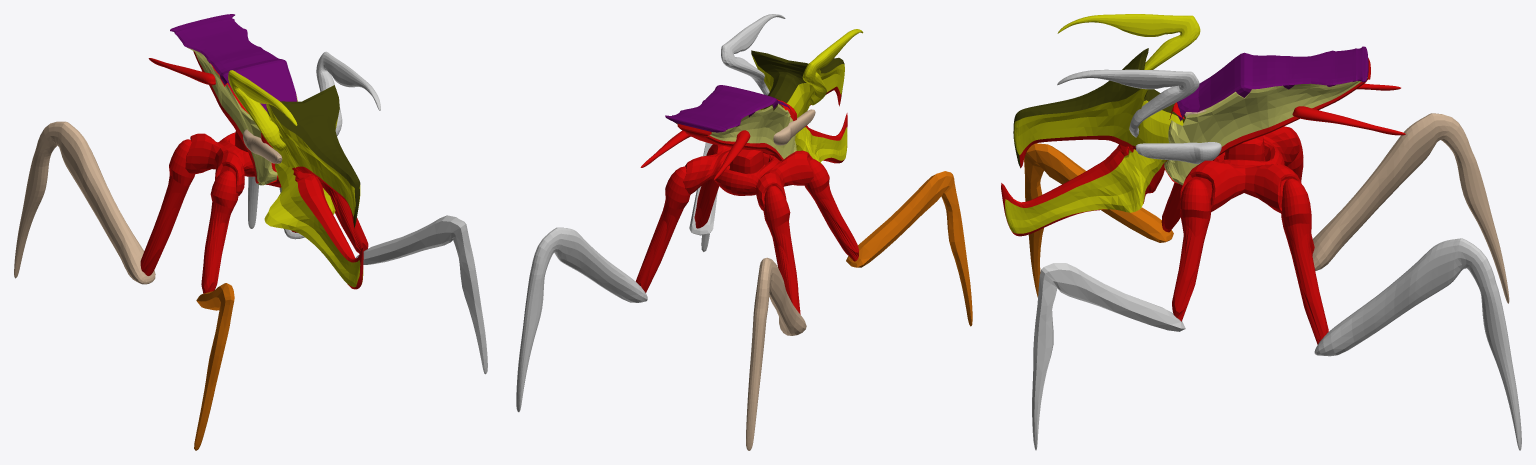
Rendered from aracnido_000010.obj.
The picture shows the model from 3 angles, left to right: view 1: azimuth 30°, elevation 25°; view 2: azimuth 150°, elevation 25°; view 3: azimuth 270°, elevation 25°; orthographic projection. The views are drawn at different scales.
Parts seen in each view (by area): view 1: ARAK-BODY-; view 2: ARAK-BODY-; view 3: ARAK-BODY-.
Boxes of the visible parts, bbox=[...] form: ARAK-BODY-: bbox=[14, 14, 487, 450]; ARAK-BODY-: bbox=[516, 14, 972, 450]; ARAK-BODY-: bbox=[1001, 14, 1521, 450].
Size of the model in its own units: 2.64 by 2.67 by 3.65.
